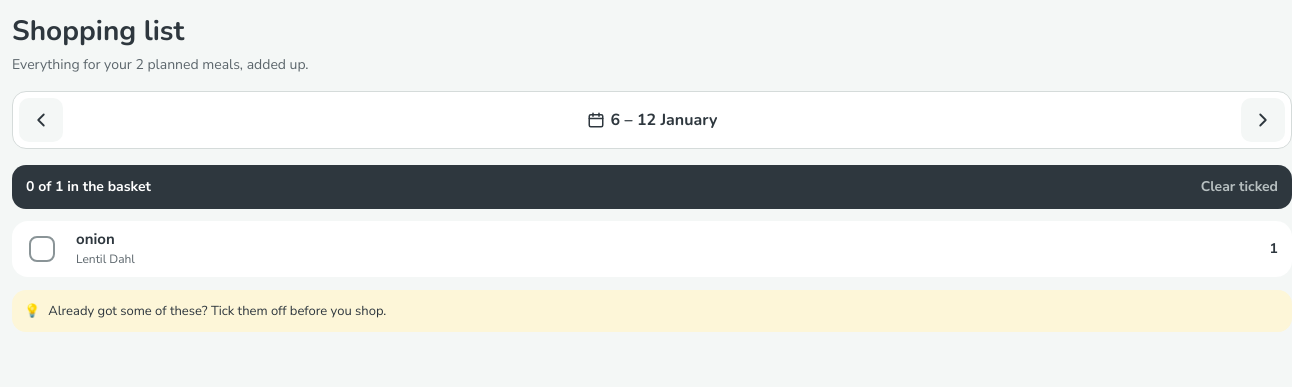
Test case: ShoppingPage › puts the tick back and explains when saving fails
Click the checkbox named "onion": (42, 249) [20,227,64,271]
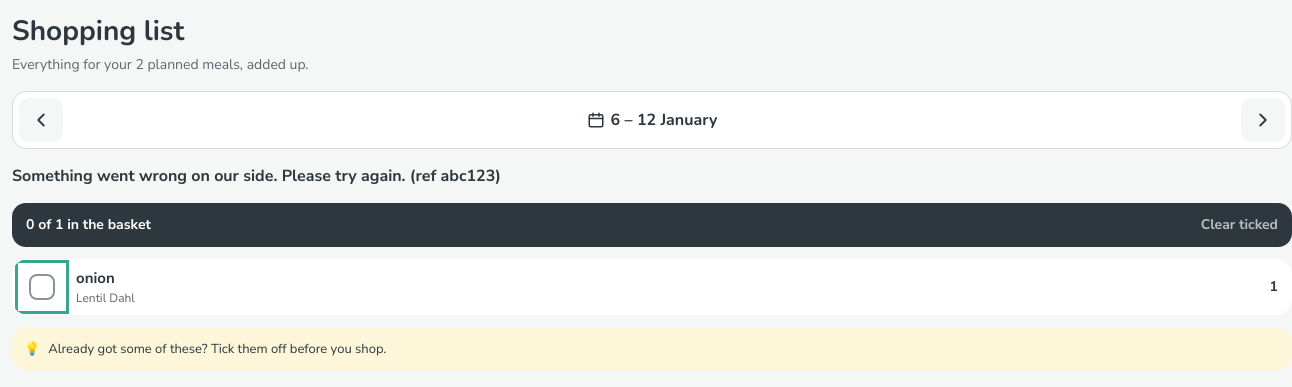
expect the checkbox named "onion" is not checked: met, box [20,265,64,309]
expect the message shows "(ref abc123)": met, box [12,165,501,187]
